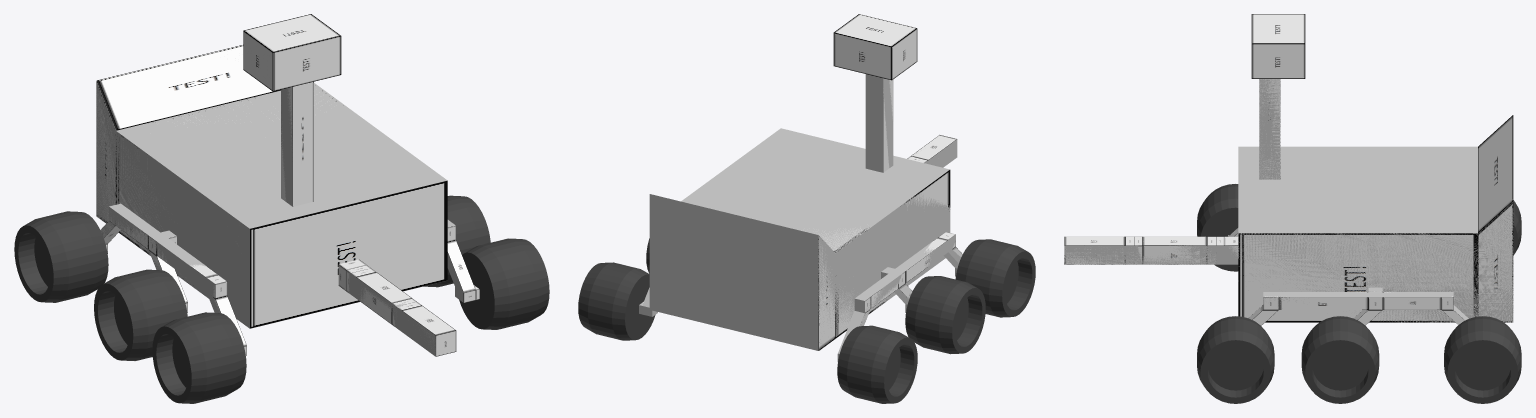
Rendered from assets.fbx.
The picture shows the model from 3 angles, left to right: view 1: azimuth 30°, elevation 25°; view 2: azimuth 150°, elevation 25°; view 3: azimuth 270°, elevation 25°; orthographic projection. The views are drawn at different scales.
Parts seen in each view (by area): view 1: Curiosity_test, Curiosity_Body, Curiosity_BackWheelDX, Curiosity_WheelbarDX, Curiosity_MidWheelDX, Curiosity_Arm, Curiosity_FrontWheelDX, Curiosity_Neck, Curiosity_FrontWheelSX; view 2: Curiosity_Body, Curiosity_test, Curiosity_MidWheelDX, Curiosity_BackWheelDX, Curiosity_BackWheelSX, Curiosity_FrontWheelDX, Curiosity_Neck, Curiosity_WheelbarDX, Curiosity_Arm; view 3: Curiosity_test, Curiosity_Body, Curiosity_BackWheelSX, Curiosity_MidWheelSX, Curiosity_FrontWheelSX, Curiosity_Arm, Curiosity_Neck, Curiosity_WheelbarSX, Curiosity_FrontWheelDX.
Part boxes in pixels (x1=…): Curiosity_test: x1=14, y1=14, x2=549, y2=403; Curiosity_Body: x1=96, y1=58, x2=447, y2=328; Curiosity_BackWheelDX: x1=14, y1=211, x2=102, y2=300; Curiosity_WheelbarDX: x1=100, y1=203, x2=220, y2=312; Curiosity_MidWheelDX: x1=94, y1=269, x2=174, y2=360; Curiosity_Arm: x1=349, y1=272, x2=435, y2=356; Curiosity_FrontWheelDX: x1=152, y1=312, x2=230, y2=403; Curiosity_Neck: x1=281, y1=88, x2=292, y2=206; Curiosity_FrontWheelSX: x1=459, y1=238, x2=530, y2=329; Curiosity_Body: x1=649, y1=128, x2=950, y2=350; Curiosity_test: x1=581, y1=14, x2=1035, y2=403; Curiosity_MidWheelDX: x1=905, y1=276, x2=982, y2=354; Curiosity_BackWheelDX: x1=837, y1=325, x2=916, y2=403; Curiosity_BackWheelSX: x1=578, y1=262, x2=655, y2=340; Curiosity_FrontWheelDX: x1=955, y1=239, x2=1034, y2=317; Curiosity_Neck: x1=865, y1=74, x2=893, y2=172; Curiosity_WheelbarDX: x1=837, y1=234, x2=960, y2=361; Curiosity_Arm: x1=912, y1=139, x2=957, y2=167; Curiosity_test: x1=1064, y1=14, x2=1517, y2=403; Curiosity_Body: x1=1238, y1=146, x2=1513, y2=322; Curiosity_BackWheelSX: x1=1448, y1=316, x2=1521, y2=403; Curiosity_MidWheelSX: x1=1305, y1=316, x2=1379, y2=403; Curiosity_FrontWheelSX: x1=1205, y1=316, x2=1274, y2=403; Curiosity_Arm: x1=1064, y1=245, x2=1238, y2=264; Curiosity_Neck: x1=1259, y1=79, x2=1280, y2=179; Curiosity_WheelbarSX: x1=1263, y1=287, x2=1468, y2=320; Curiosity_FrontWheelDX: x1=1201, y1=184, x2=1238, y2=271.
Size of what is drawn, in the model's own units: 1.05 by 0.8915 by 1.3.
3 materials, 1 textured.
